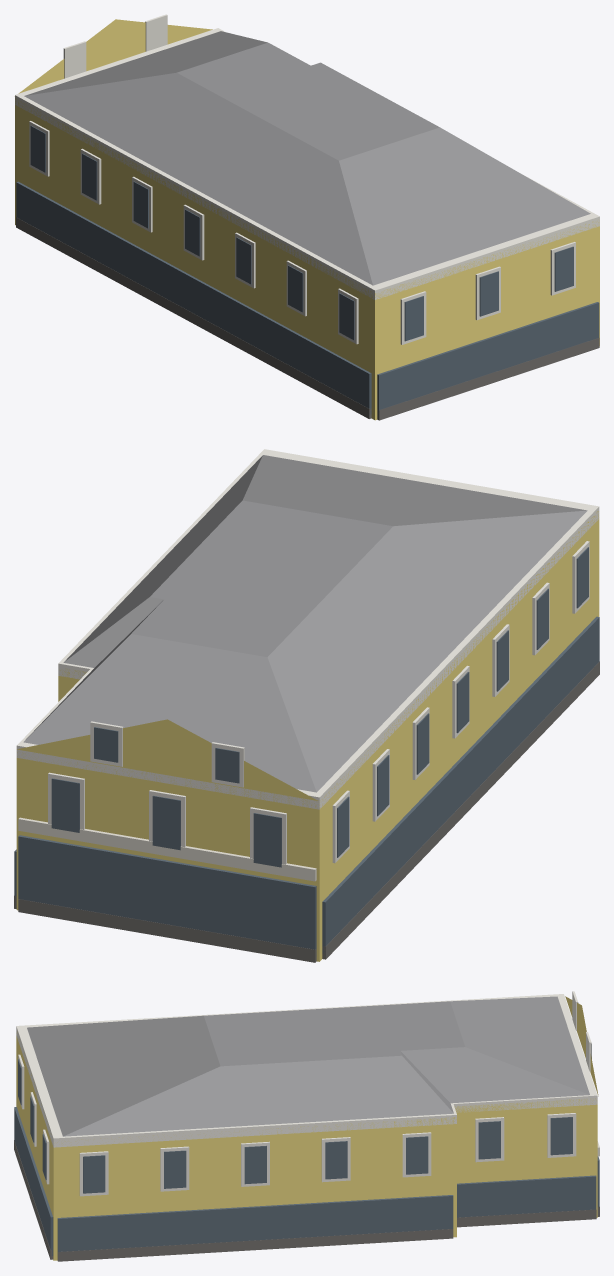
File: s36_gis_248098_820737_detail.glb
The picture shows the model from 3 angles, top to bottom: view 1: azimuth 30°, elevation 25°; view 2: azimuth 150°, elevation 25°; view 3: azimuth 270°, elevation 25°; orthographic projection. The views are drawn at different scales.
Parts seen in each view (by area): view 1: roof, mass, band_4_1.2, cornice, band_3_1.2, band_4_0.25, gable, band_3_0.25, win_3_0.83_4.4, win_3_0.50_4.4, win_3_0.17_4.4, wtrim_5_0.70_7.0 (+8 smaller); view 2: roof, mass, band_5_1.55, band_4_1.2, cornice, gable, band_5_0.25, band_4_0.25, band_5_3.35, win_5_0.50_4.4, win_5_0.17_4.4, win_5_0.83_4.4 (+8 smaller); view 3: roof, mass, band_2_1.2, cornice, band_0_1.2, band_2_0.25, band_3_1.2, band_0_0.25, win_2_0.70_4.4, win_0_0.25_4.4, win_2_0.10_4.4, win_2_0.90_4.4 (+12 smaller).
Part boxes in pixels (x1,y1,x2,y2): roof: (24,31,590,285); mass: (15,98,599,420); band_4_1.2: (16,181,371,414); cornice: (15,28,599,299); band_3_1.2: (377,302,599,415); band_4_0.25: (16,217,371,418); gable: (14,19,212,96); band_3_0.25: (377,337,599,420); win_3_0.83_4.4: (554,246,573,291); win_3_0.50_4.4: (479,271,498,316); win_3_0.17_4.4: (404,296,423,341); wtrim_5_0.70_7.0: (63,41,86,78); roof: (23,455,587,792); mass: (16,511,599,961); band_5_1.55: (18,835,316,955); band_4_1.2: (322,616,599,954); cornice: (16,449,599,809); gable: (17,719,317,800); band_5_0.25: (18,899,316,962); band_4_0.25: (322,661,599,959); band_5_3.35: (18,817,316,881); win_5_0.50_4.4: (152,795,180,850); win_5_0.17_4.4: (51,778,79,832); win_5_0.83_4.4: (253,813,281,867); roof: (27,996,589,1136); mass: (16,1031,597,1260); band_2_1.2: (57,1195,453,1256); cornice: (16,994,597,1147); band_0_1.2: (457,1175,596,1217); band_2_0.25: (57,1229,453,1261); band_3_1.2: (14,1107,53,1255); band_0_0.25: (457,1209,596,1227); win_2_0.70_4.4: (325,1141,347,1179); win_0_0.25_4.4: (478,1121,500,1159); win_2_0.10_4.4: (83,1155,105,1193); win_2_0.90_4.4: (406,1136,428,1174).
Size of the model in its own units: 16.21 by 8.35 by 27.43.
